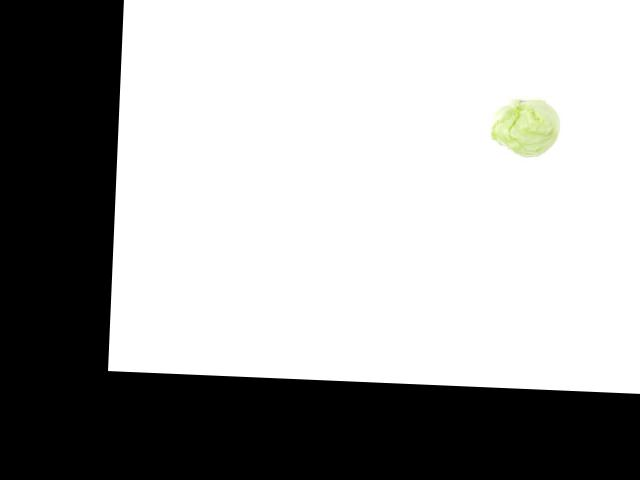lettuce: (482, 97, 567, 164)
